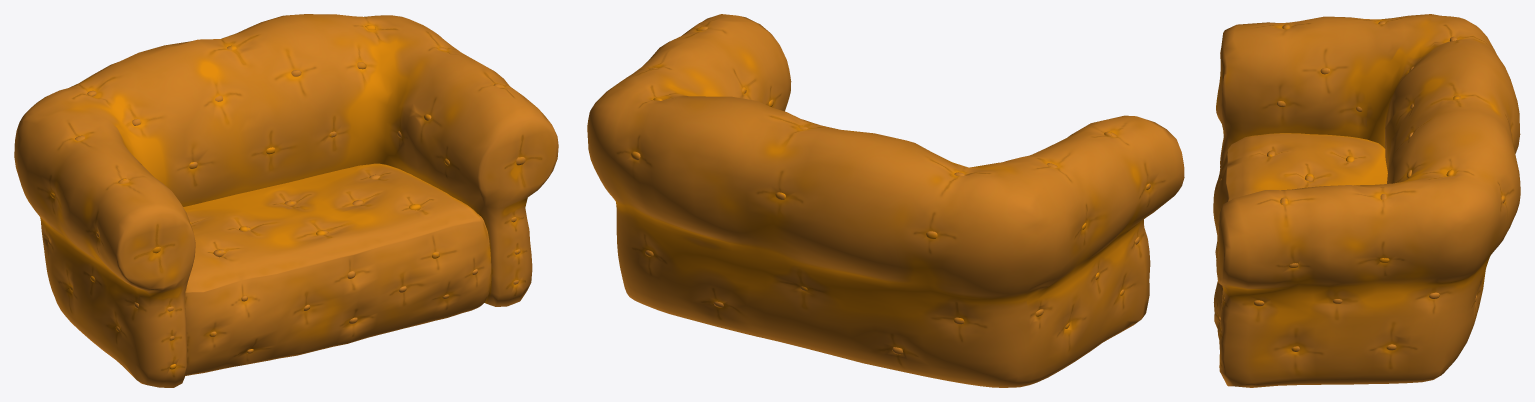
Rendered from Sofa3_Buttoned.glb.
3 views of the same model, side by side, from view 1: azimuth 30°, elevation 25°; view 2: azimuth 150°, elevation 25°; view 3: azimuth 270°, elevation 25° (orthographic). The views are drawn at different scales.
Parts seen in each view (by area): view 1: Sofa_low, Buttons_low; view 2: Sofa_low, Buttons_low; view 3: Sofa_low, Buttons_low.
Part boxes in pixels (x1,y1,x2,y2): Sofa_low: (14, 14, 558, 387); Buttons_low: (47, 25, 525, 369); Sofa_low: (587, 14, 1184, 387); Buttons_low: (631, 26, 1150, 354); Sofa_low: (1213, 14, 1520, 387); Buttons_low: (1218, 21, 1511, 351).
Bounding box in the file's own units: 0.00736 × 0.00356 × 0.00449.
Materials: 2 (2 with a texture image).
